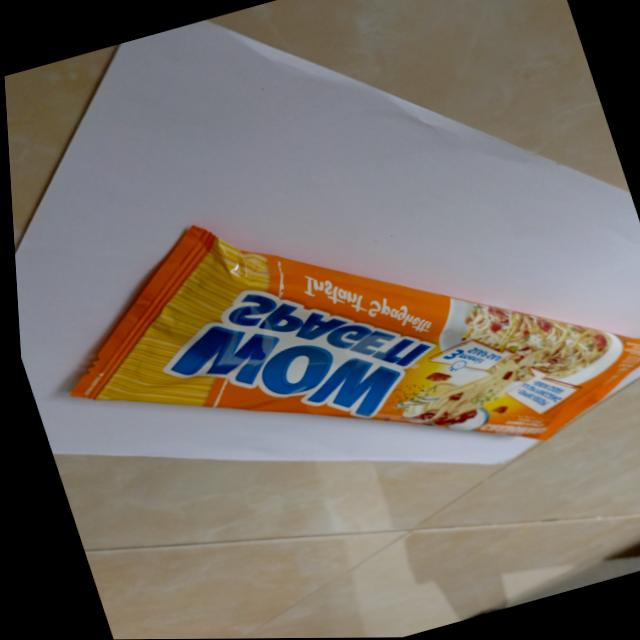indomie-tori-miso: (15, 110, 640, 559)
